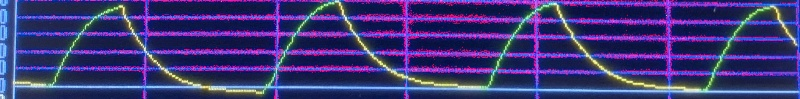normal_volume: (4, 0, 800, 95)
